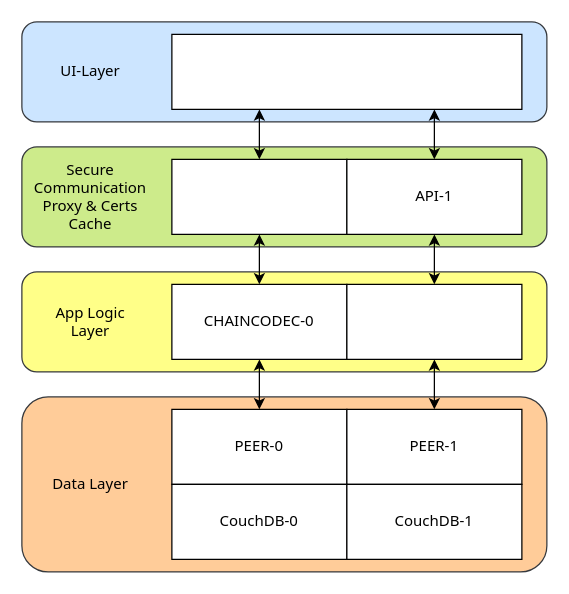
Some shapes in this 569 by 594 pixel diagram are drawn without their labels. The shapes that lost their labels are listed below. From the top down, each one's centre as x and y in pixels, then its label:
At pixel 346 71: "UI".
At pixel 259 196: "API-0".
At pixel 434 321: "CHAINCODE-1".
